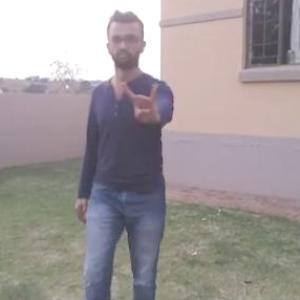takeoff-hand: (116, 71, 174, 128)
